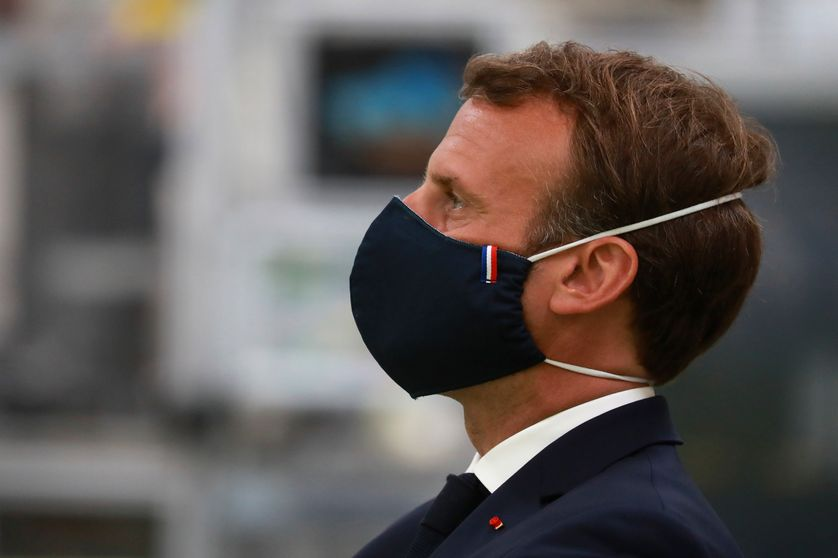with_mask: (349, 97, 646, 398)
